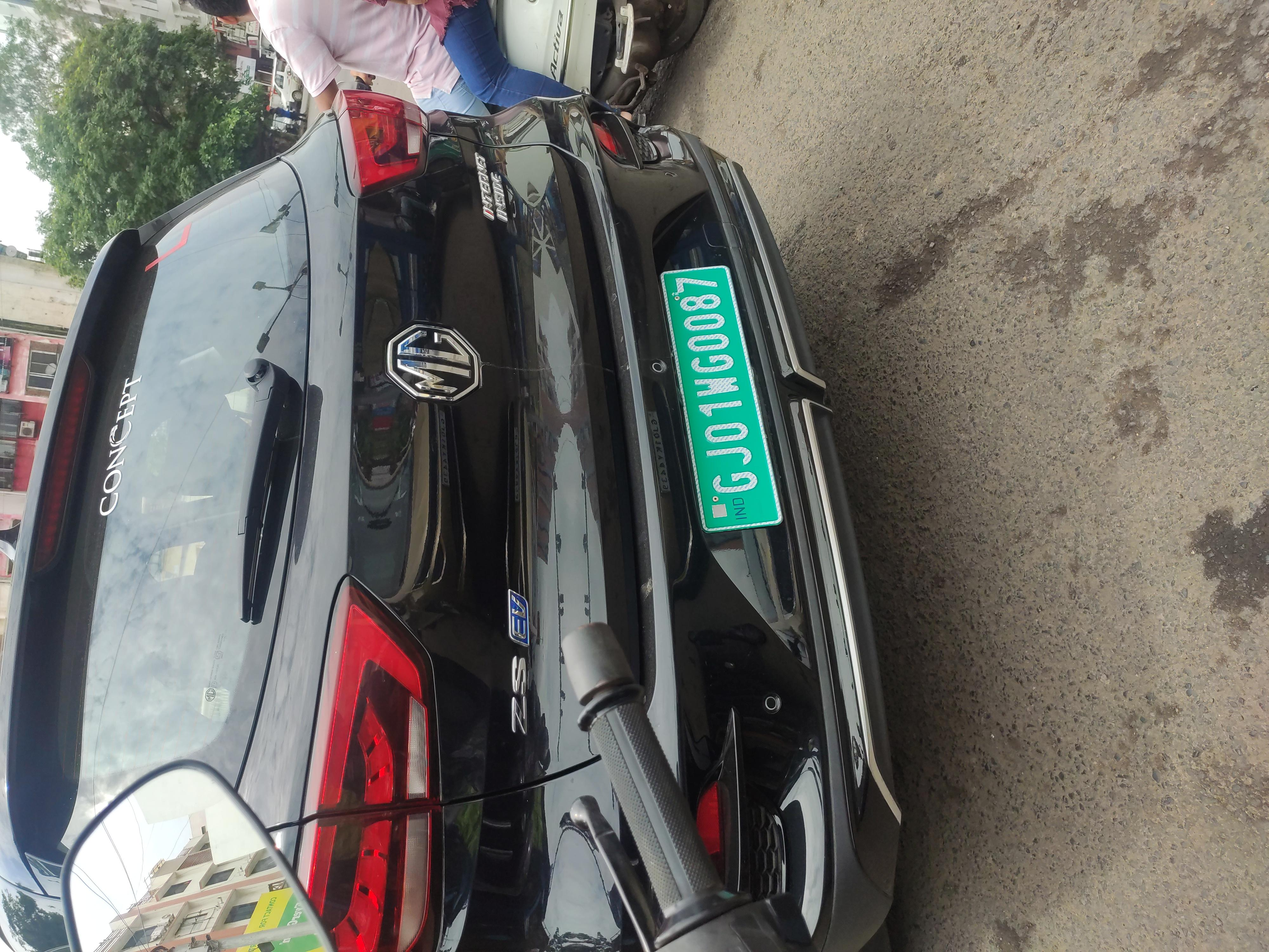green license plate: (545, 493, 910, 580)
